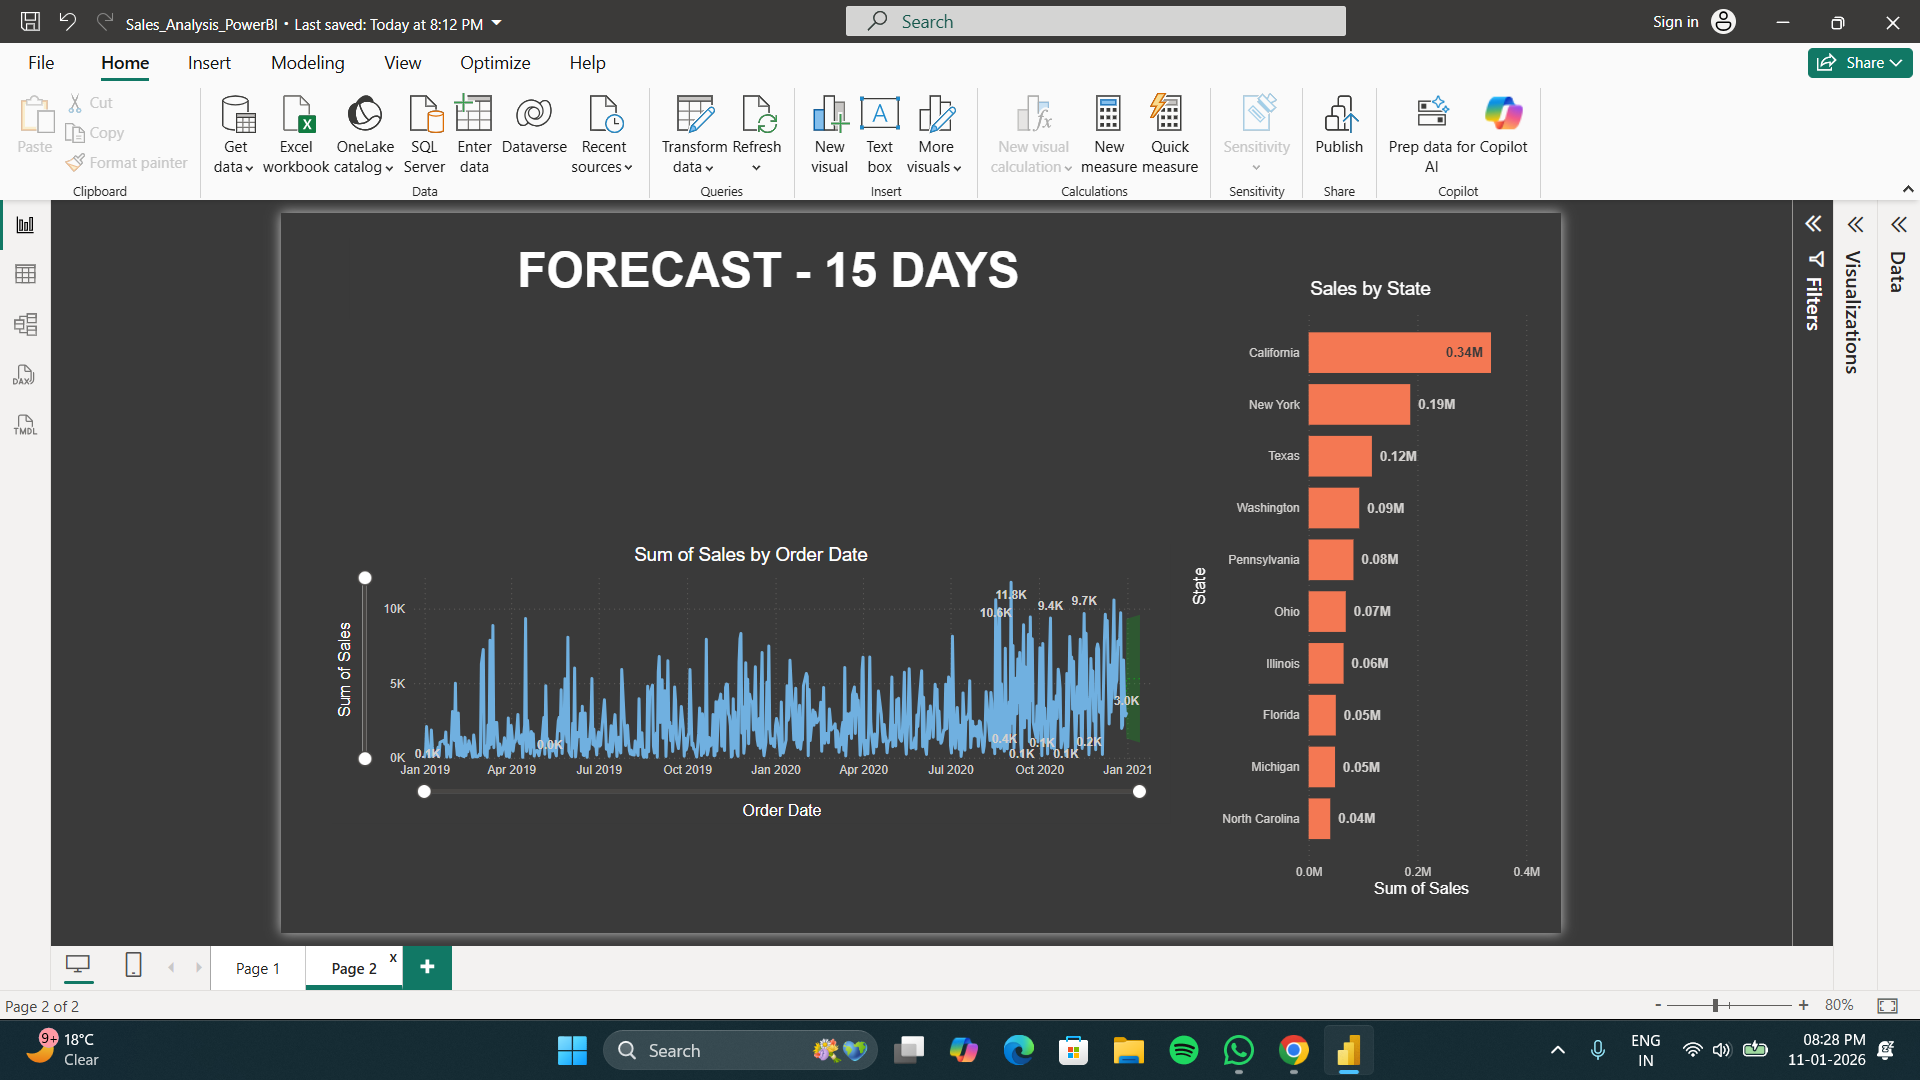

What the dashboard file says about the page in this screenshot:
{"tool":"powerbi","page":{"name":"Page 2","canvas":[1280,720],"ordinal":1},"visuals":[{"type":"lineChart","fields":{"Y":["Sum(SuperStore_Sales_Dataset.Sales)"],"Category":["SuperStore_Sales_Dataset.Order Date"]},"box":[50.7,331.8,837.3,278.7],"z":0},{"type":"clusteredBarChart","title":"Sales by State","fields":{"Category":["SuperStore_Sales_Dataset.State"],"Y":["Sum(SuperStore_Sales_Dataset.Sales)"]},"box":[905.7,64.5,366.4,624.4],"z":1000},{"type":"textbox","box":[68.8,25.3,837.3,80.8],"z":1001}]}

Visuals, with their boxes on the page's 1280x720 design canvas (x1, y1, x2, y2). These are canvas units, not pixel positions in the 1920x1080 screenshot, which may show the page scaled, cropped or inside an application window:
lineChart - Sum(SuperStore_Sales_Dataset.Sales) x SuperStore_Sales_Dataset.Order Date: crop(51, 332, 888, 610)
"Sales by State" clusteredBarChart: crop(906, 64, 1272, 689)
textbox: crop(69, 25, 906, 106)
